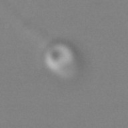normal: (1, 1, 45, 52)
